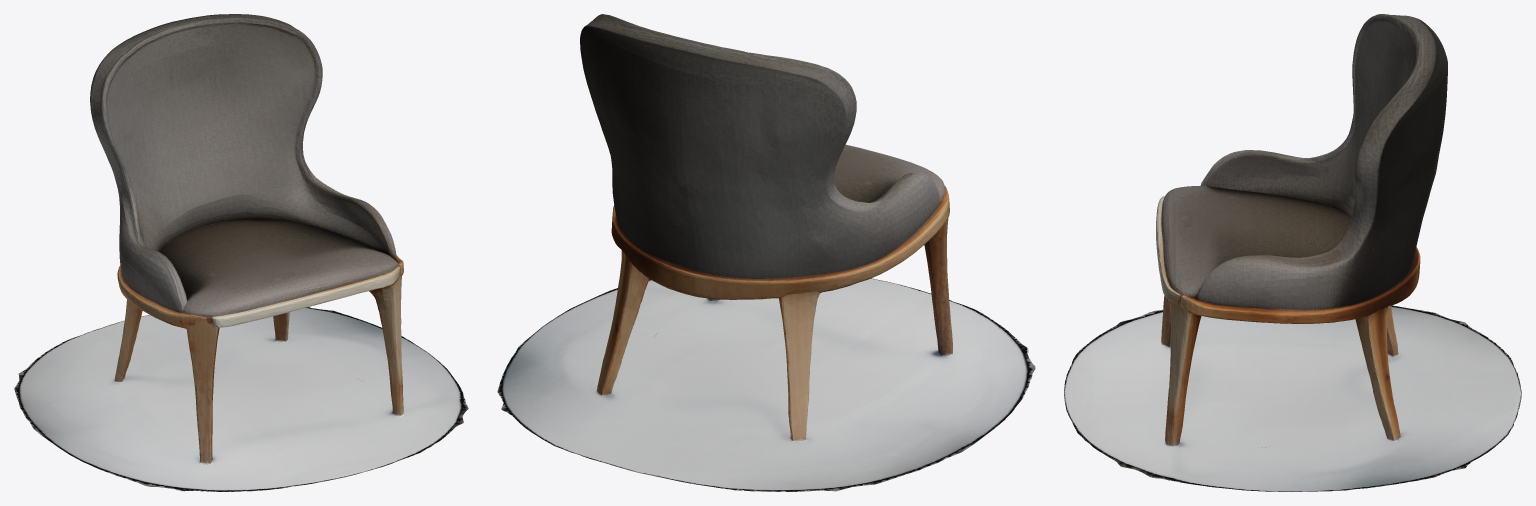
The picture shows the model from 3 angles, left to right: view 1: azimuth 30°, elevation 25°; view 2: azimuth 150°, elevation 25°; view 3: azimuth 270°, elevation 25°; orthographic projection. The views are drawn at different scales.
Parts seen in each view (by area): view 1: world; view 2: world; view 3: world.
Part boxes in pixels (x1,y1,x2,y2): world: (14,14,468,491); world: (497,14,1035,491); world: (1064,14,1521,491).
Bounding box in the file's own units: 0.9983 × 0.8401 × 0.9997.
1 material, 1 textured.
